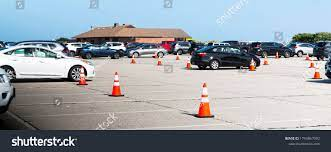car: (1, 46, 95, 81), (190, 46, 261, 69), (1, 67, 16, 116), (251, 41, 294, 58), (76, 46, 124, 59), (130, 45, 168, 59), (289, 43, 317, 58), (171, 41, 195, 55), (313, 41, 331, 58)
cone: (196, 82, 213, 117), (109, 71, 123, 96), (76, 66, 88, 87), (246, 59, 256, 72), (314, 63, 321, 79), (262, 54, 269, 66), (308, 59, 316, 69), (130, 53, 136, 63), (185, 57, 190, 69), (157, 56, 162, 65), (175, 52, 180, 61)
